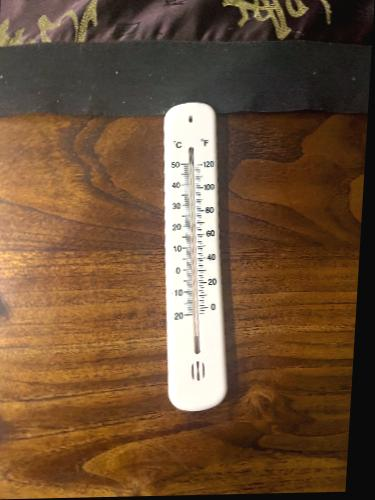thermo: (164, 103, 228, 412)
